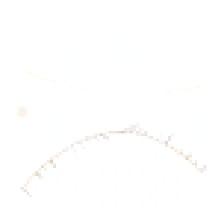hemorrhage_spot: (96, 75, 158, 125)
